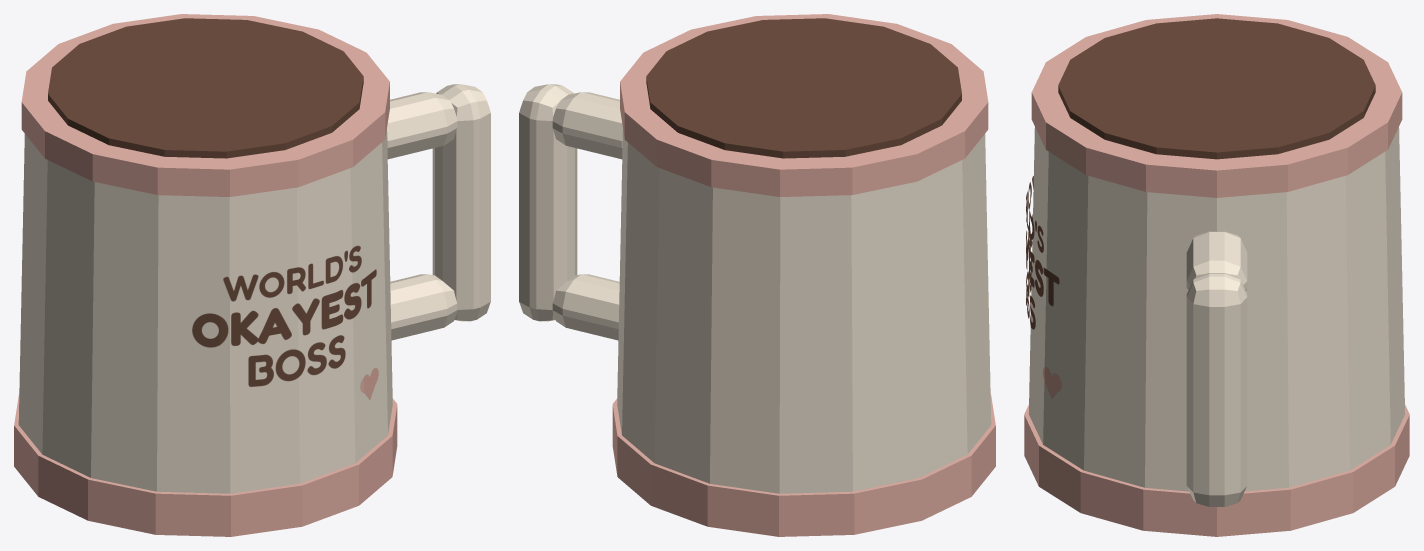
The model's file is mug_worlds_okayest.glb.
3 renders of one model, left to right at view 1: azimuth 30°, elevation 25°; view 2: azimuth 150°, elevation 25°; view 3: azimuth 270°, elevation 25°, orthographic.
Visible parts, largest first — view 1: mug_worlds_okayest, Decal_Okayest; view 2: mug_worlds_okayest; view 3: mug_worlds_okayest, Decal_Okayest.
Part boxes in pixels (x1,y1,x2,y2): mug_worlds_okayest: [14, 14, 490, 536]; Decal_Okayest: [192, 245, 378, 399]; mug_worlds_okayest: [519, 14, 995, 536]; mug_worlds_okayest: [1024, 14, 1409, 536]; Decal_Okayest: [1026, 176, 1061, 398].
Bounding box in the file's own units: 0.136 × 0.108 × 0.102.
4 materials, 1 textured.
